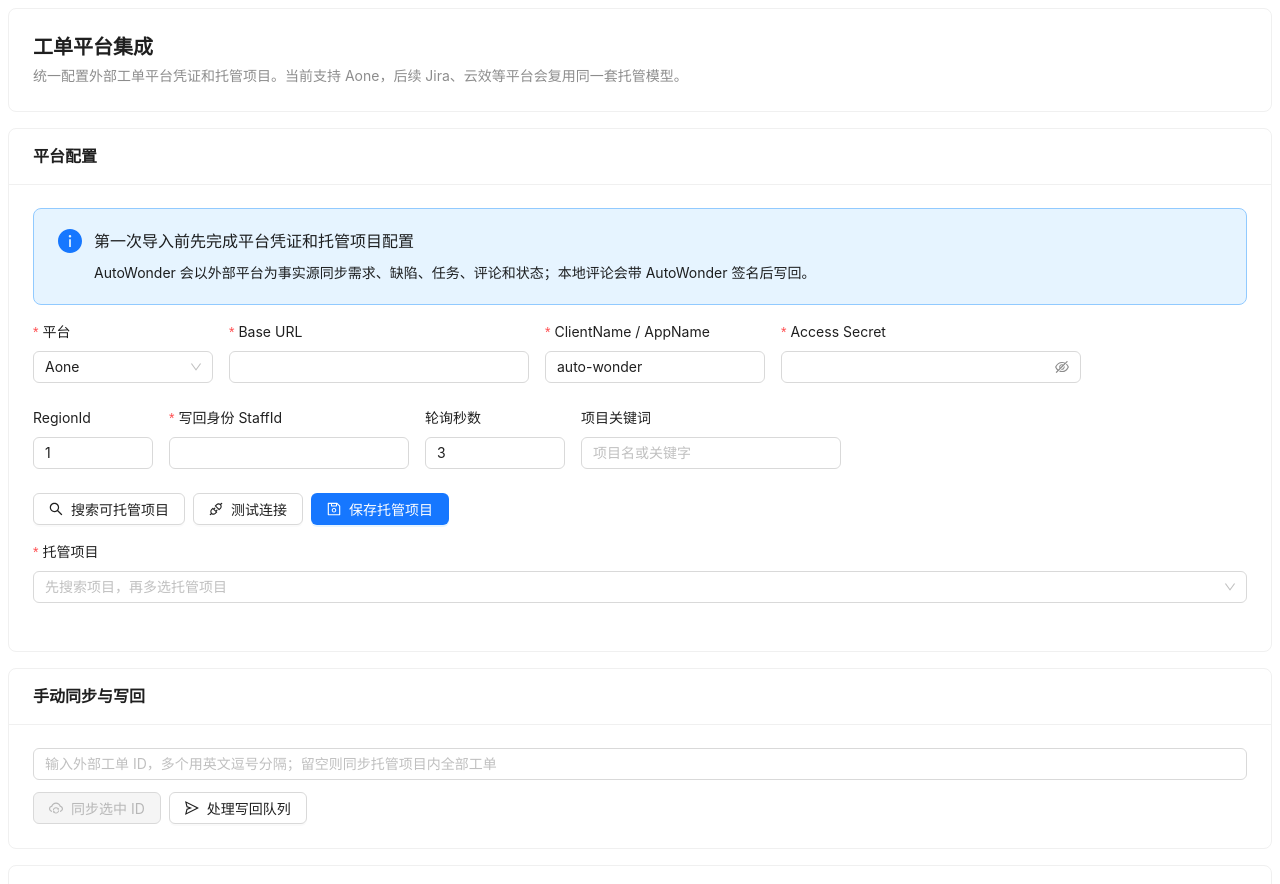
Test: WorkitemIntegrationPage › keeps integration commands visible but blocks non-admin execution
Click the button "搜索可托管项目" at (109, 509), box [33, 493, 185, 525]
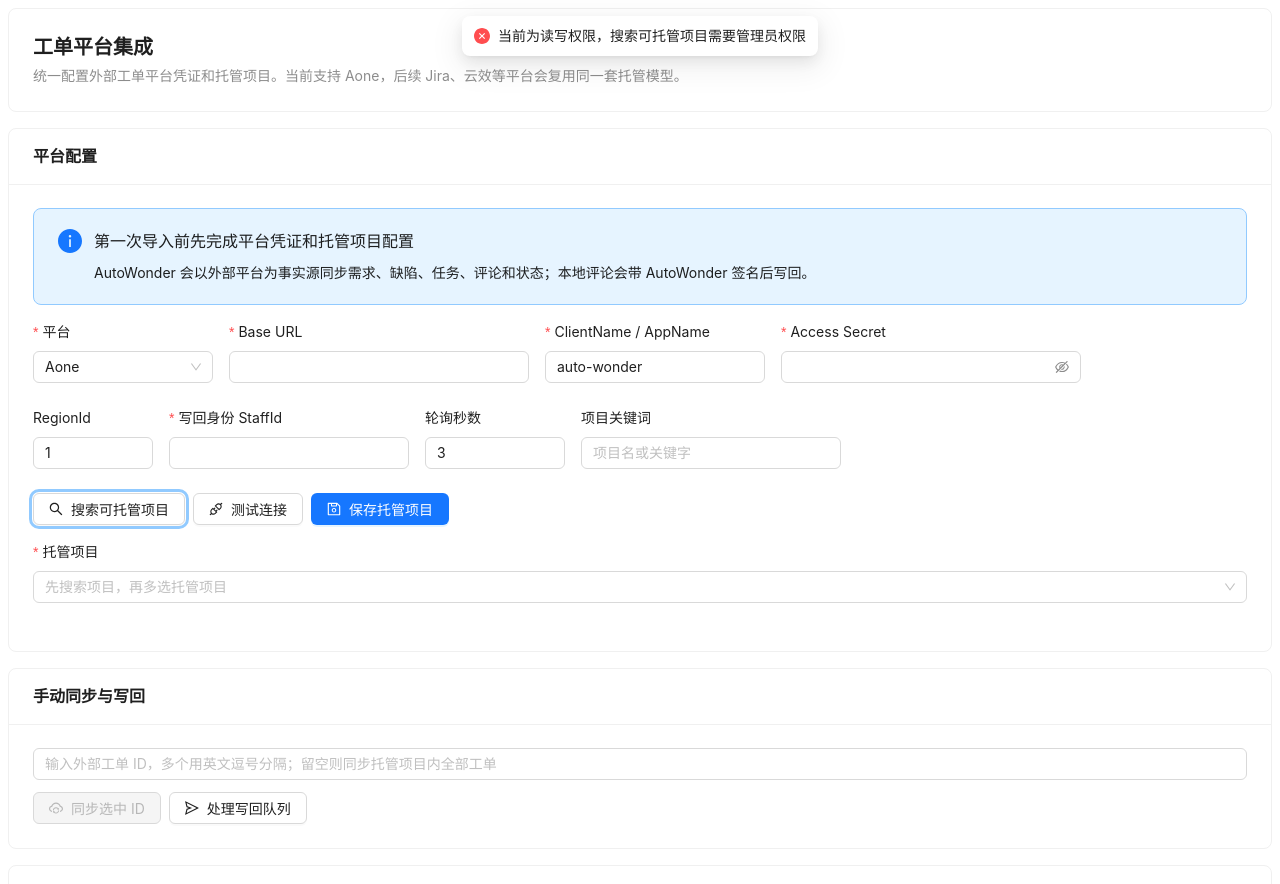
Now the text "当前为读写权限，搜索可托管项目需要管理员权限" is shown, box [498, 25, 806, 47]
